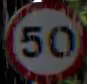Speed limit: (4, 3, 86, 83)
